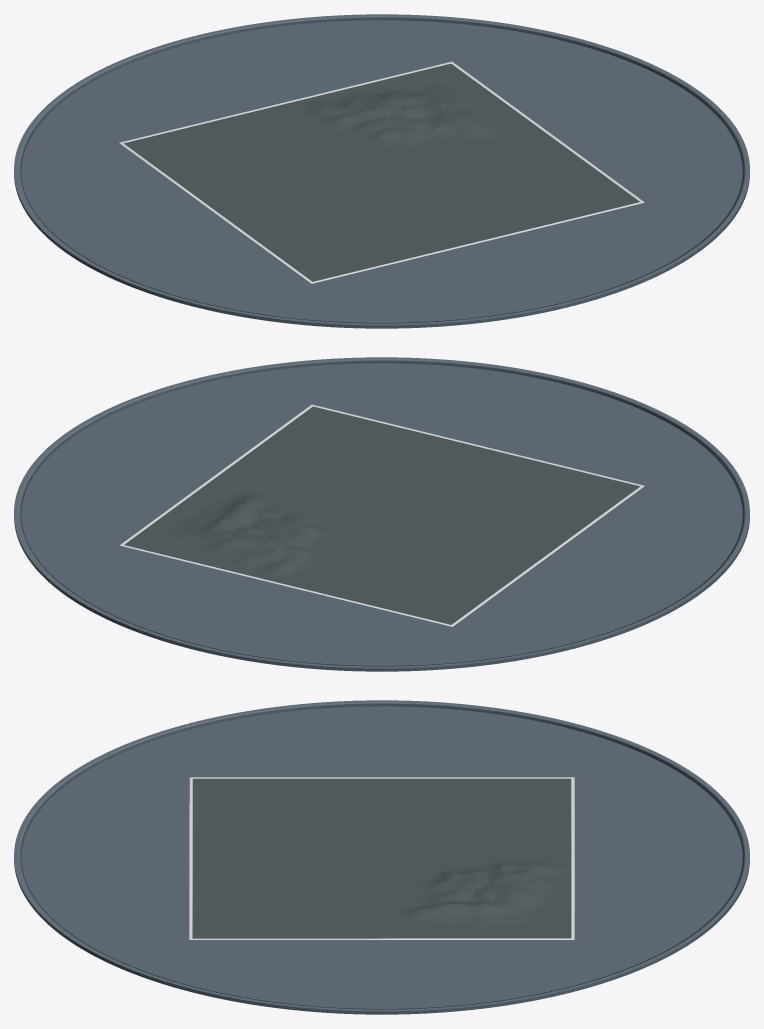
Rendered from GroundObstacles.FBX.
The picture shows the model from 3 angles, top to bottom: view 1: azimuth 30°, elevation 25°; view 2: azimuth 150°, elevation 25°; view 3: azimuth 270°, elevation 25°; orthographic projection.
Parts seen in each view (by area): view 1: GroundExtents, GroundLines; view 2: GroundExtents, GroundLines; view 3: GroundExtents, GroundLines.
Part boxes in pixels (bbox=[...]): GroundExtents: bbox=[14, 14, 749, 328]; GroundLines: bbox=[119, 61, 644, 283]; GroundExtents: bbox=[14, 357, 749, 671]; GroundLines: bbox=[119, 404, 644, 626]; GroundExtents: bbox=[14, 700, 749, 1014]; GroundLines: bbox=[189, 777, 574, 939].
Bounding box in the file's own units: 421 × 4.69 × 421.
